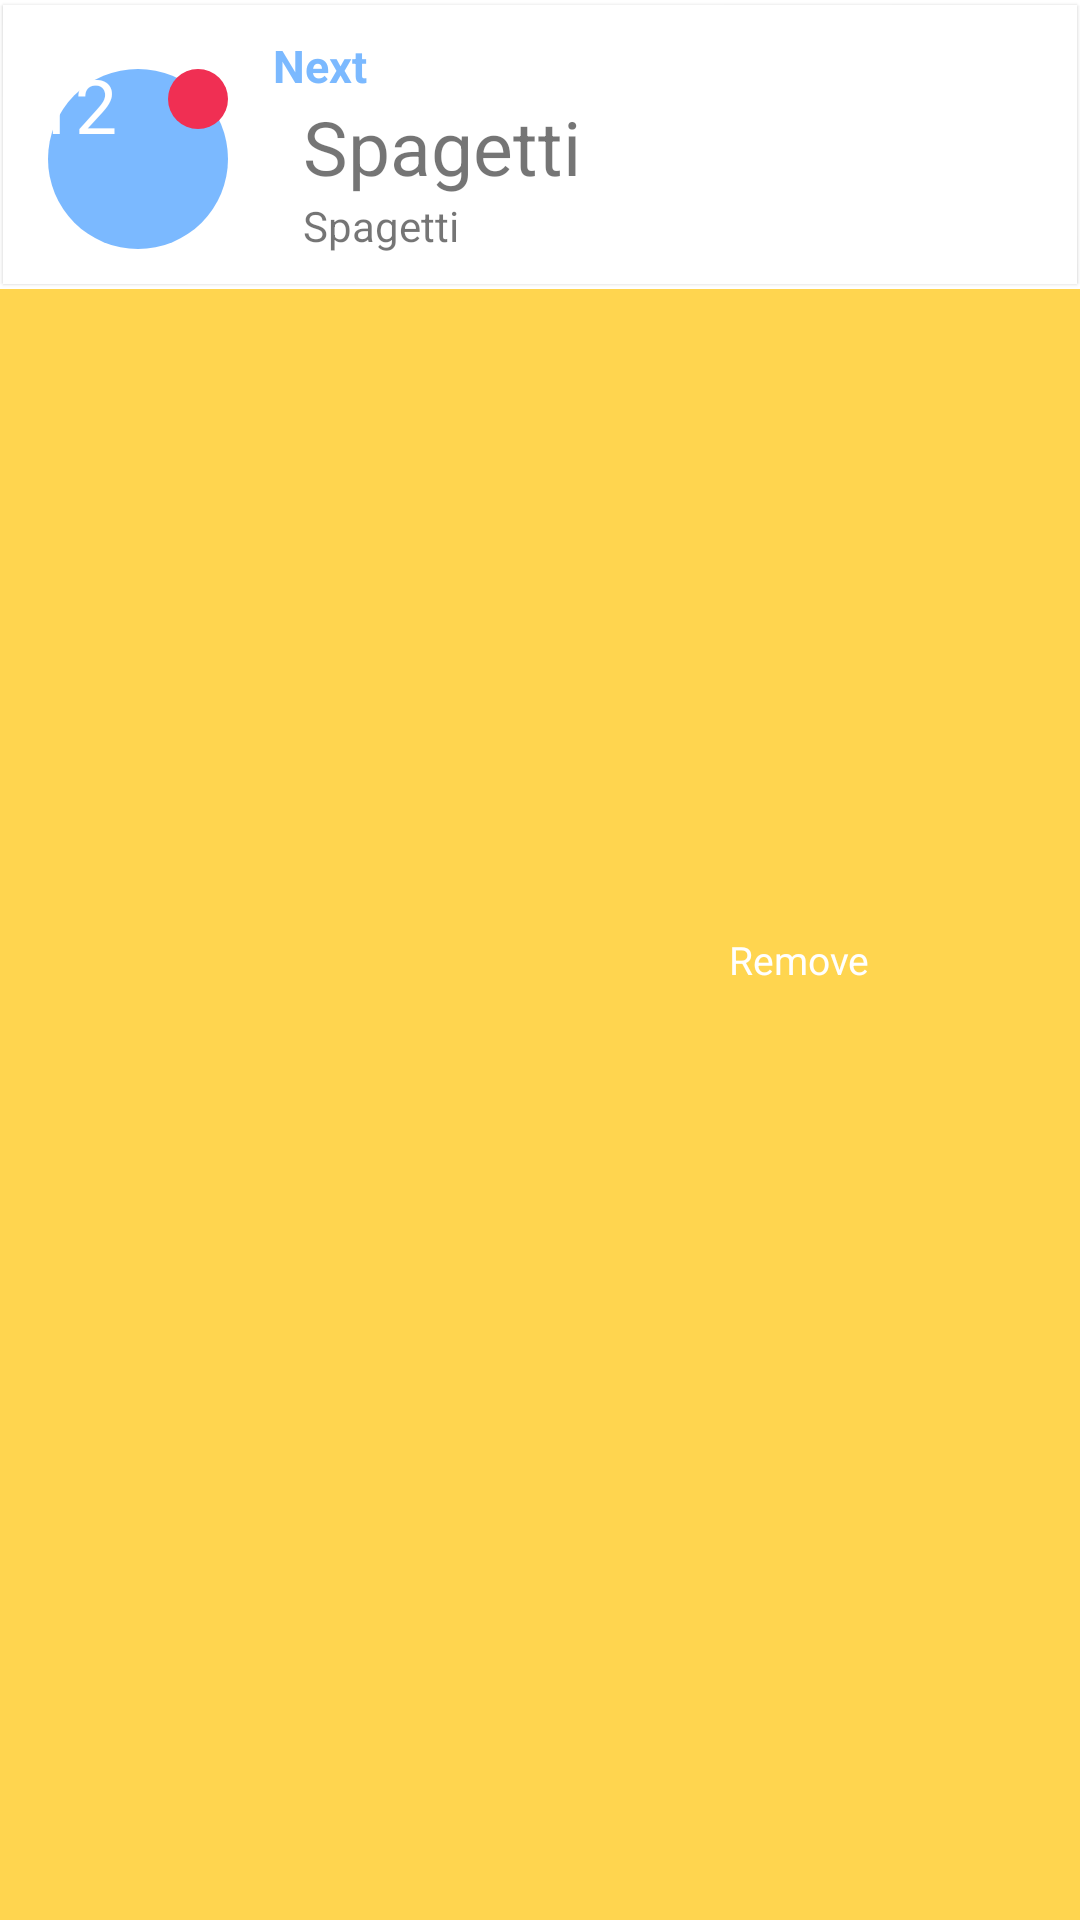

Where icons sit on this 1080 x 1920 app screen, as (x1, y1, x2, y2):
table number circle no: (48, 69, 228, 249)
